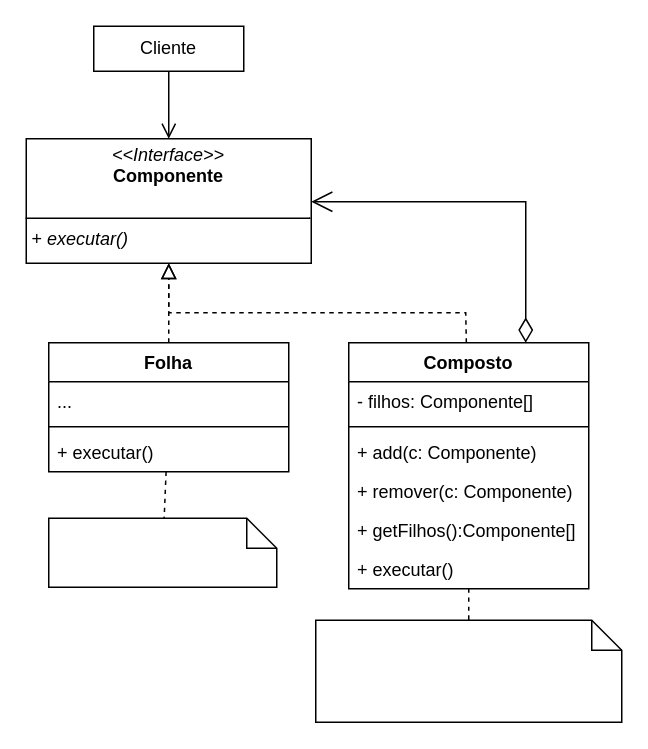
The diagram is 648 pixels wide and 749 high, and some of its shapes have lost their labels. Each missing label, with the centre of its shape:
public ... executar() { //implementacao }: (162,552)
public ... executar() { for (Componente c: filhos) { c.executar(); } }: (468,670)
